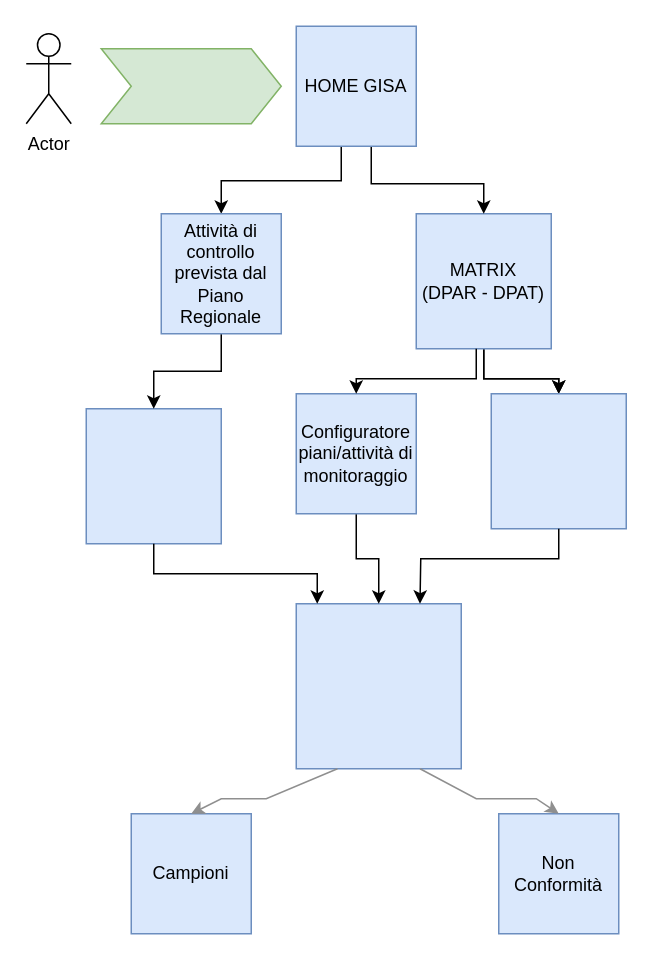
This 653x960 diagram has some shape labels left out. Here are the shapes that lost their labels. From the top down, the centre of each, then its label:
pixel 190 85: Login
pixel 153 475: Anagrafica stabilimenti, SIntesis , Aziende zootecniche, ...
pixel 558 460: Organigramma
pixel 378 685: Controllo Ufficiale: -Ispezioni semplici -Ispezioni in sorveglianza -Audit
